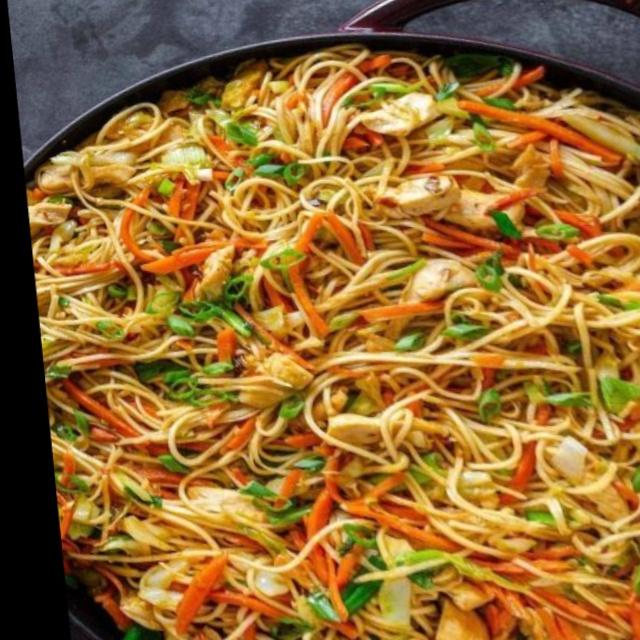pancit bihon: (23, 51, 639, 639)
